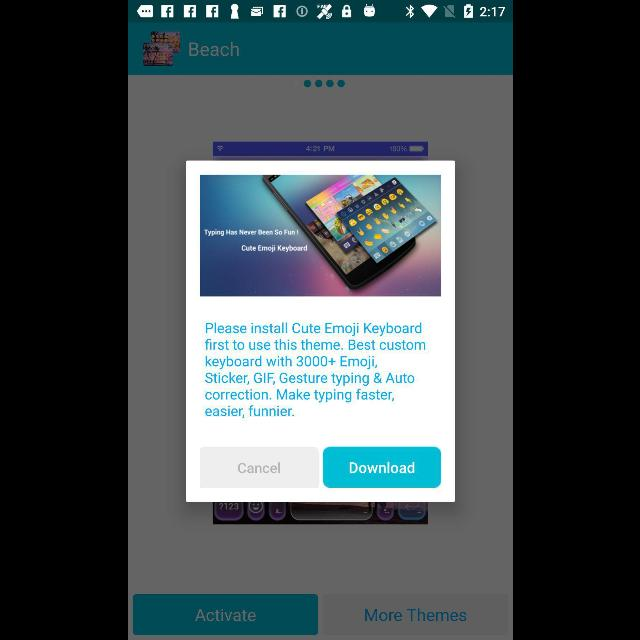image: (200, 176, 440, 296), (143, 32, 180, 66)
pageindicator: (302, 80, 344, 88)
panel: (186, 160, 454, 502)
text: (204, 323, 424, 419), (188, 42, 238, 56)
textbutton: (322, 594, 508, 636), (132, 593, 318, 635), (200, 447, 318, 488), (322, 448, 440, 488)
uppertaskbar: (128, 1, 512, 23)
